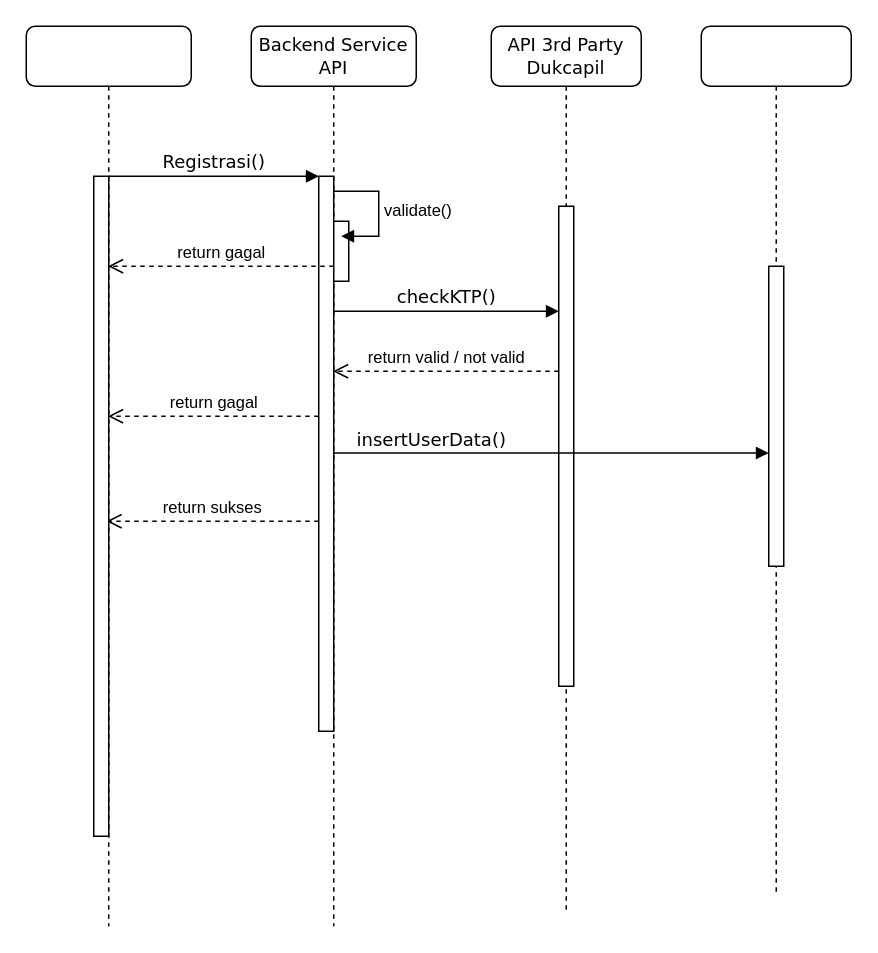
This 878x953 diagram has some shape labels left out. Each missing label, with the box of its shape:
Database: (700, 25, 851, 896)
Mobile Apps: (25, 25, 191, 926)
